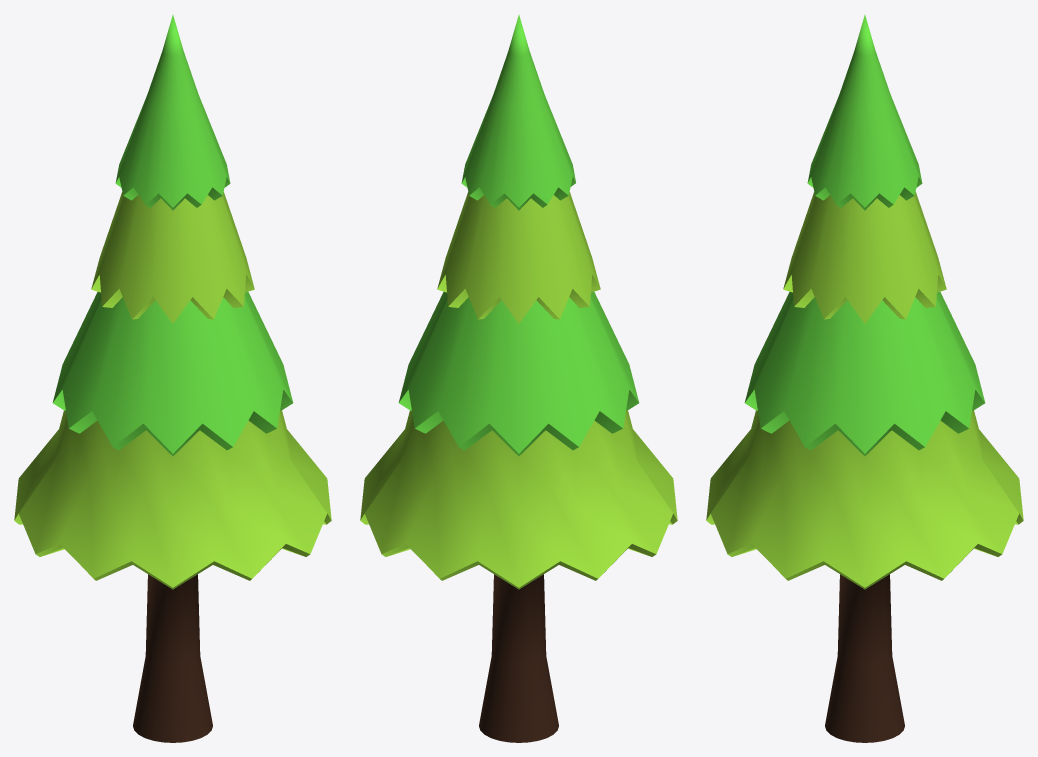
File: Tree_1.fbx
3 renders of one model, left to right at view 1: azimuth 30°, elevation 25°; view 2: azimuth 150°, elevation 25°; view 3: azimuth 270°, elevation 25°, orthographic.
Parts seen in each view (by area): view 1: Tree_1; view 2: Tree_1; view 3: Tree_1.
Part boxes in pixels (<box>): Tree_1: <box>14,15,331,742</box>; Tree_1: <box>360,15,677,742</box>; Tree_1: <box>706,15,1023,742</box>.
Size of the model in its own units: 0.7865 by 1.95 by 0.7865.
